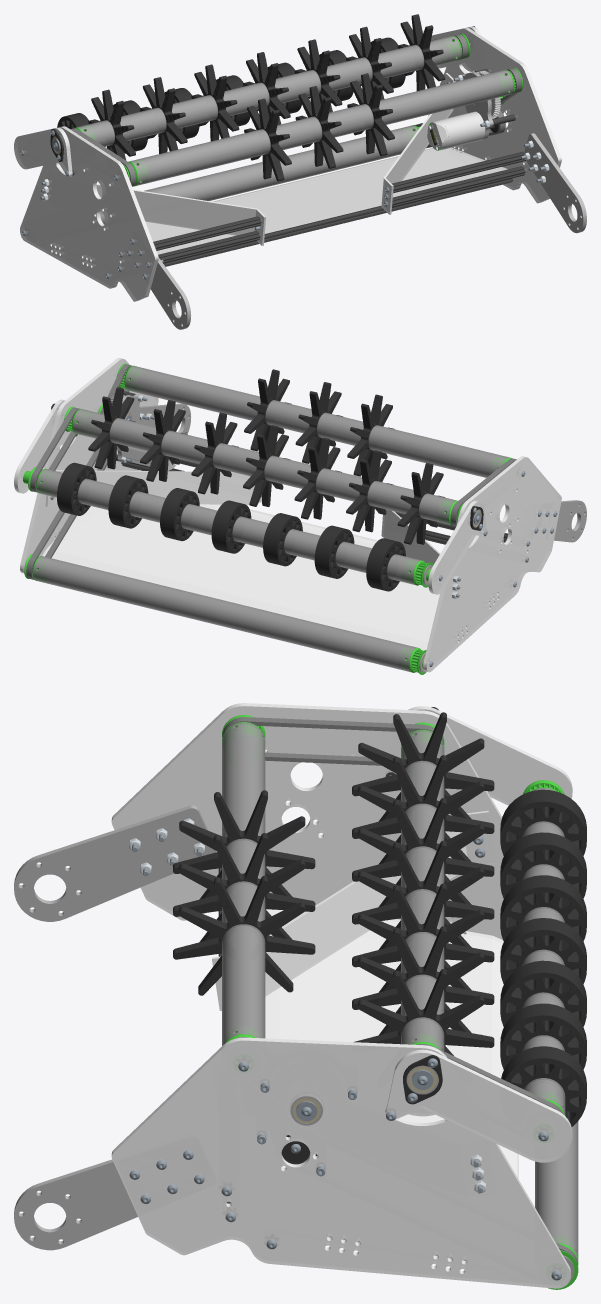
The picture shows the model from 3 angles, top to bottom: view 1: azimuth 30°, elevation 25°; view 2: azimuth 150°, elevation 25°; view 3: azimuth 270°, elevation 25°; orthographic projection. The views are drawn at different scales.
Parts seen in each view (by area): view 1: Polycarb Roller (×3), Intake Side Plate (×2), 5" Star Flex Wheel (30A, 1.25" Round Stretch Bore) (×10), Intake Bottom Plate, Coral Center-er (×2), 2537-REEF-INTK-00-24 (×4), Intake Pivot Attachment (×2), 3" Flex Wheel (30A, 1" Wide, 1.25" Round Stretch Bore) (×6), 2537-REEF-INTK-00-30, Intake Floating Arm, id365, Intake Roller Gearbox Plate (+1 smaller); view 2: Polycarb Roller (×4), Intake Bottom Plate, Intake Side Plate (×2), 5" Star Flex Wheel (30A, 1.25" Round Stretch Bore) (×10), 3" Flex Wheel (30A, 1" Wide, 1.25" Round Stretch Bore) (×7), Coral Center-er (×2), Intake Floating Arm (×2), Intake Pivot Attachment (×2), 125T HTD Belt, 70T HTD Belt, 85T HTD Belt; view 3: Intake Side Plate (×2), 5" Star Flex Wheel (30A, 1.25" Round Stretch Bore) (×10), Polycarb Roller (×4), 3" Flex Wheel (30A, 1" Wide, 1.25" Round Stretch Bore) (×7), Intake Pivot Attachment (×2), Intake Floating Arm (×2), Intake Bottom Plate, Coral Center-er, 85T HTD Belt.
Part boxes in pixels (bbox=[...]): Polycarb Roller (×3): bbox=[77, 35, 513, 224]; Intake Side Plate (×2): bbox=[20, 28, 561, 301]; 5" Star Flex Wheel (30A, 1.25" Round Stretch Bore) (×10): bbox=[88, 14, 445, 181]; Intake Bottom Plate: bbox=[145, 147, 507, 254]; Coral Center-er (×2): bbox=[96, 73, 455, 245]; 2537-REEF-INTK-00-24 (×4): bbox=[153, 151, 525, 263]; Intake Pivot Attachment (×2): bbox=[150, 133, 586, 329]; 3" Flex Wheel (30A, 1" Wide, 1.25" Round Stretch Bore) (×6): bbox=[113, 37, 405, 153]; 2537-REEF-INTK-00-30: bbox=[163, 178, 513, 266]; Intake Floating Arm: bbox=[14, 127, 72, 176]; id365: bbox=[430, 111, 485, 150]; Intake Roller Gearbox Plate: bbox=[462, 72, 493, 139]; Polycarb Roller (×4): bbox=[33, 366, 509, 672]; Intake Bottom Plate: bbox=[42, 504, 439, 650]; Intake Side Plate (×2): bbox=[20, 358, 561, 672]; 5" Star Flex Wheel (30A, 1.25" Round Stretch Bore) (×10): bbox=[88, 369, 444, 544]; 3" Flex Wheel (30A, 1" Wide, 1.25" Round Stretch Bore) (×7): bbox=[57, 462, 405, 591]; Coral Center-er (×2): bbox=[45, 470, 440, 564]; Intake Floating Arm (×2): bbox=[14, 399, 486, 594]; Intake Pivot Attachment (×2): bbox=[140, 403, 586, 542]; 125T HTD Belt: bbox=[26, 447, 107, 579]; 70T HTD Belt: bbox=[30, 407, 79, 492]; 85T HTD Belt: bbox=[450, 458, 516, 525]; Intake Side Plate (×2): bbox=[111, 703, 570, 1288]; 5" Star Flex Wheel (30A, 1.25" Round Stretch Bore) (×10): bbox=[173, 712, 494, 1055]; Polycarb Roller (×4): bbox=[222, 722, 578, 1259]; 3" Flex Wheel (30A, 1" Wide, 1.25" Round Stretch Bore) (×7): bbox=[500, 789, 586, 1126]; Intake Pivot Attachment (×2): bbox=[14, 805, 215, 1250]; Intake Floating Arm (×2): bbox=[385, 706, 572, 1162]; Intake Bottom Plate: bbox=[265, 905, 518, 1261]; Coral Center-er: bbox=[212, 810, 496, 1010]; 85T HTD Belt: bbox=[222, 717, 443, 765].
Bounding box in the file's own units: 0.7322 × 0.2821 × 0.5035.
